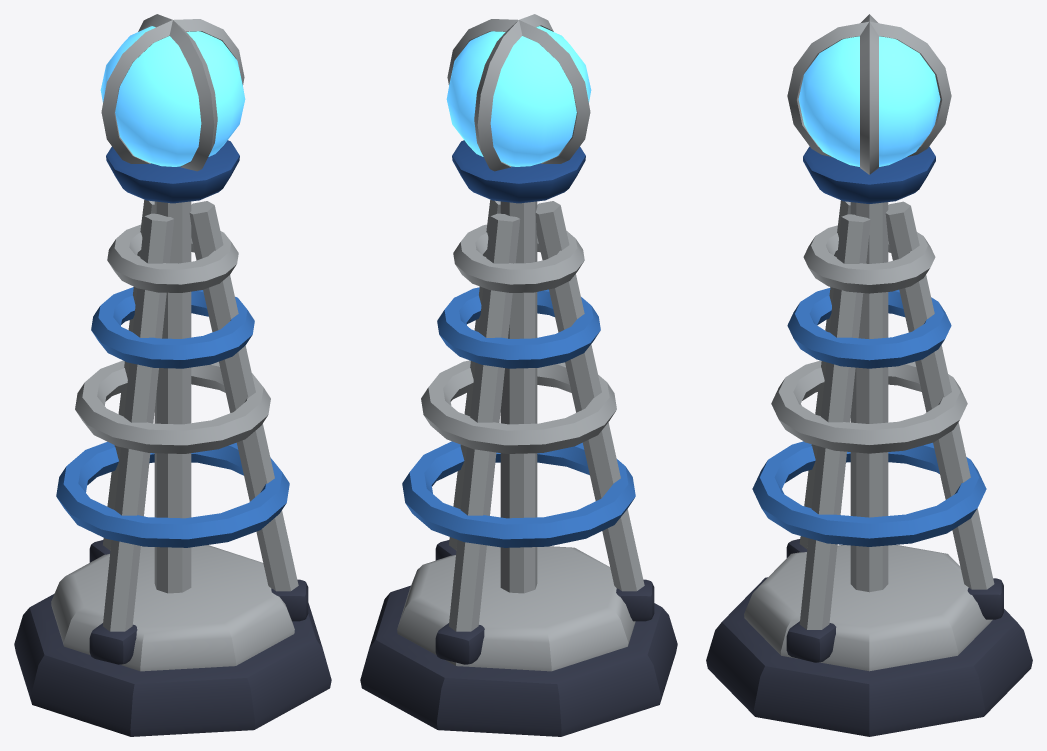
The model's file is TeslaAntenna.fbx.
3 renders of one model, left to right at view 1: azimuth 30°, elevation 25°; view 2: azimuth 150°, elevation 25°; view 3: azimuth 270°, elevation 25°, orthographic.
Visible parts, largest first — view 1: TeslaAntenna; view 2: TeslaAntenna; view 3: TeslaAntenna.
Part boxes in pixels (box(x1,y1,x2,y2)): TeslaAntenna: box(14, 14, 331, 736); TeslaAntenna: box(360, 14, 677, 736); TeslaAntenna: box(706, 14, 1032, 736).
Size of the model in its own units: 1.21 by 2.66 by 1.21.
